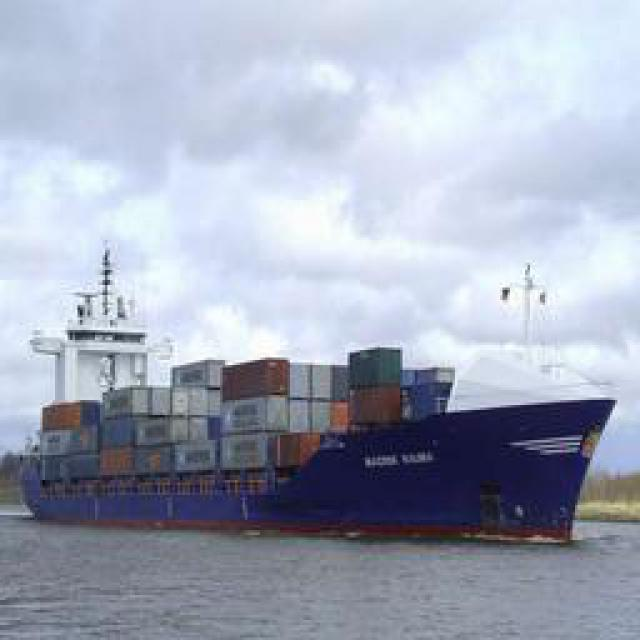Ship: (24, 242, 624, 532)
